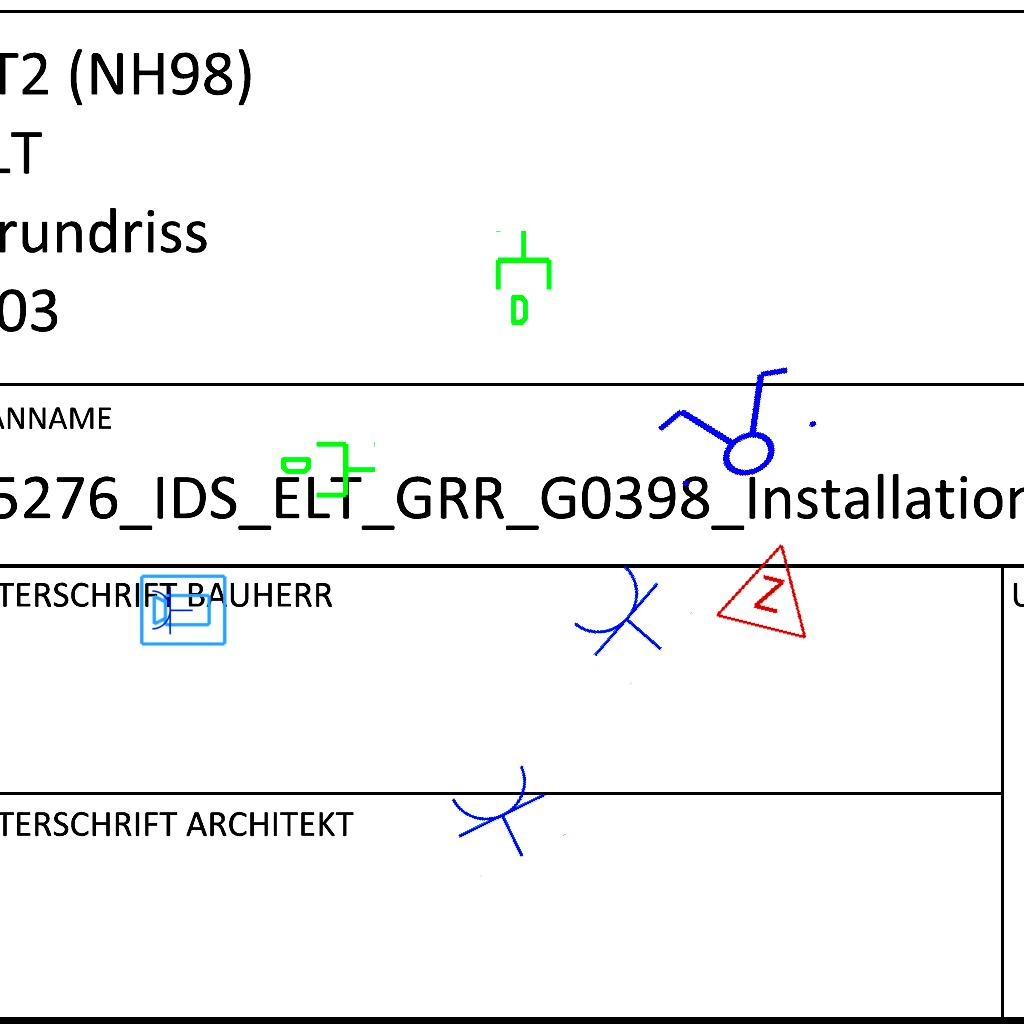Datenanschluss_einfach: (278, 437, 378, 506), (491, 228, 560, 328)
KFO_Kamera_mit_Festobjektiv: (138, 571, 229, 648)
Schukosteckdose_einfach: (563, 554, 695, 687), (439, 756, 569, 879), (150, 585, 193, 635)
Serienschalter: (640, 351, 834, 511)
Zimmersignalleuchte: (710, 525, 830, 647)
